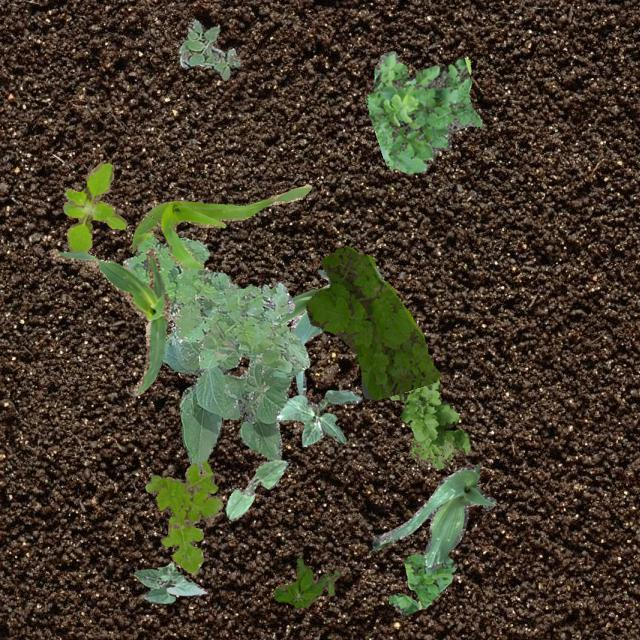crop: (160, 326, 292, 470), (49, 246, 170, 394), (130, 182, 310, 268), (370, 464, 494, 568), (270, 268, 328, 394), (274, 388, 360, 446), (224, 458, 286, 520), (132, 562, 205, 602), (376, 270, 381, 278)
weed: (122, 235, 308, 378), (304, 246, 440, 400), (364, 49, 480, 172), (144, 459, 222, 574), (389, 378, 468, 468), (61, 162, 126, 252), (388, 554, 456, 614), (178, 18, 240, 78), (272, 558, 340, 608)
